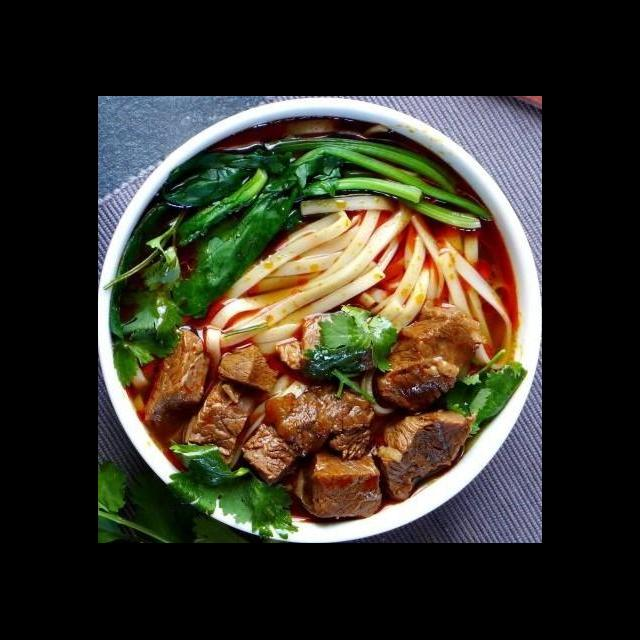banh pho: (216, 190, 518, 330), (191, 278, 314, 374)
pho bo: (98, 132, 542, 544)
thit bo: (235, 384, 378, 490), (369, 300, 489, 422), (367, 402, 482, 506), (269, 307, 402, 383), (169, 369, 262, 472), (137, 324, 213, 438), (287, 452, 383, 524), (212, 340, 286, 400)
